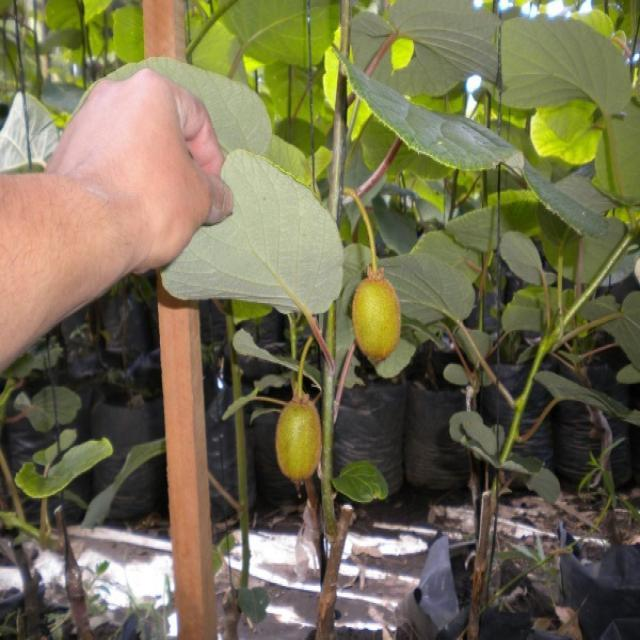kiwi: (353, 276, 401, 364), (276, 401, 321, 479)
